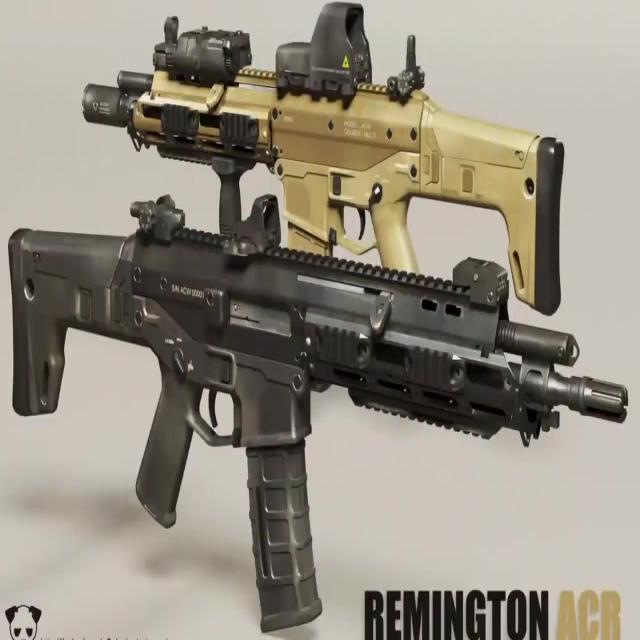Weapon: (1, 6, 640, 631)
